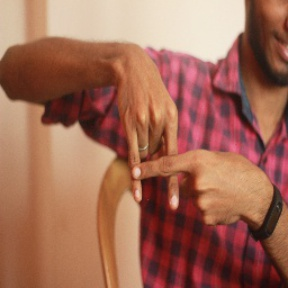H: (109, 103, 208, 214)
